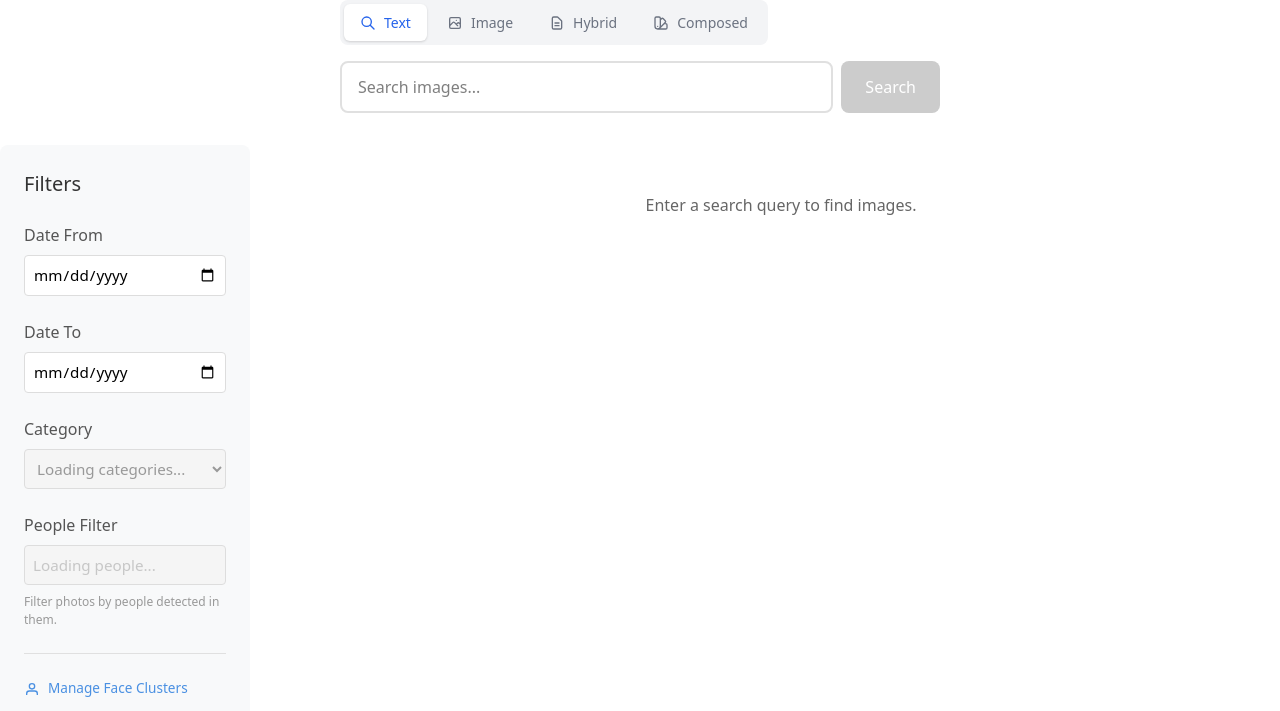
Test case: Dashboard Page › shows error message when search fails
This screenshot has width=1280, height=711.
Type "test" into the field named "search query" at (587, 87), box [340,61,833,113]
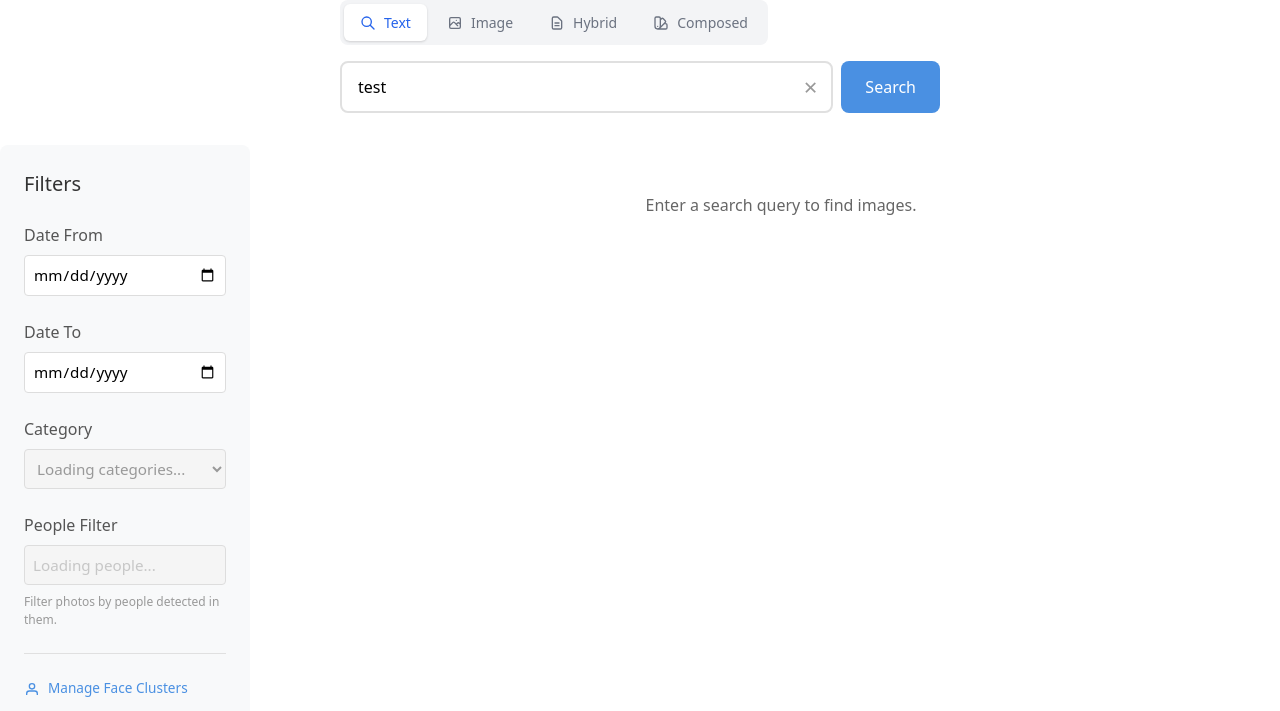
Submit the form named "search query", box [340,61,940,113]
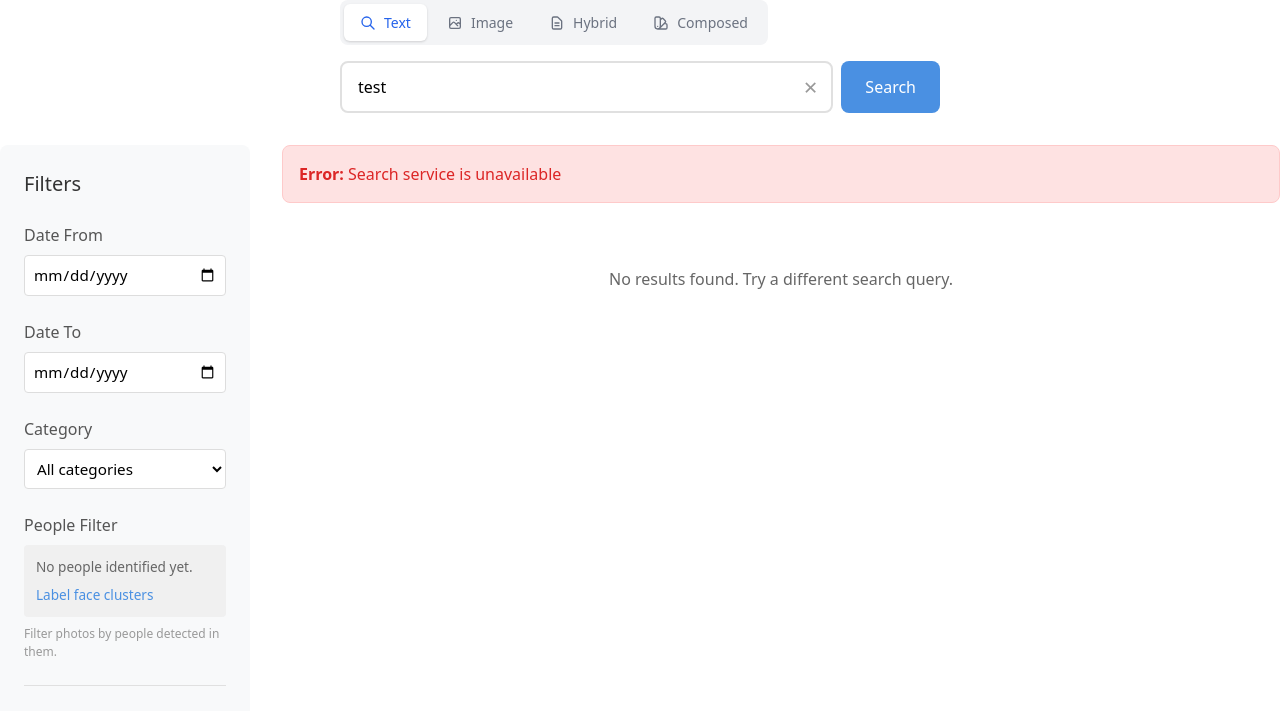
expect the text "Error: Search service is unavailable" is shown: met, box [282,145,1279,203]
